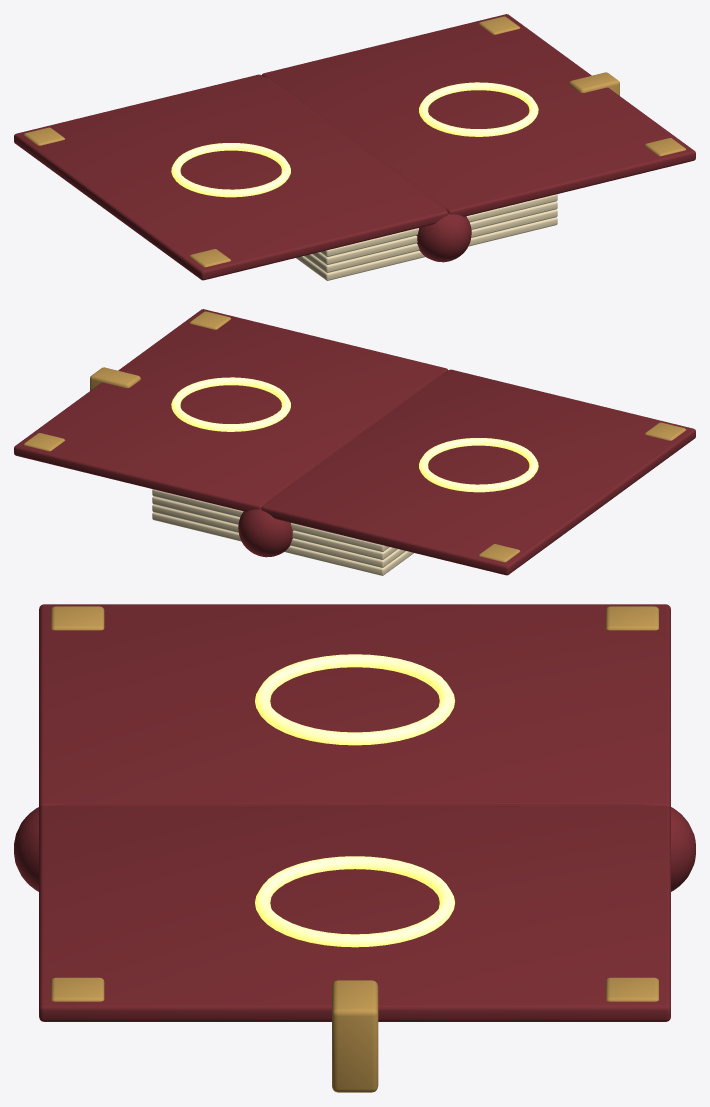
File: runaway_book.glb
The picture shows the model from 3 angles, top to bottom: view 1: azimuth 30°, elevation 25°; view 2: azimuth 150°, elevation 25°; view 3: azimuth 270°, elevation 25°; orthographic projection. The views are drawn at different scales.
Parts seen in each view (by area): view 1: CoverMesh_R, CoverMesh_L, Spine, Rune_L, Rune_R, PageBlock_0, PageBlock_1, PageBlock_2, PageBlock_3, Clasp, Corner_L_0, Corner_R_0 (+2 smaller); view 2: CoverMesh_R, CoverMesh_L, Spine, Rune_L, Rune_R, PageBlock_0, PageBlock_1, PageBlock_2, PageBlock_3, Clasp, Corner_L_1, Corner_R_0 (+2 smaller); view 3: CoverMesh_L, CoverMesh_R, Rune_L, Rune_R, Clasp, Spine, Corner_R_0, Corner_L_0, Corner_R_1, Corner_L_1.
Part boxes in pixels (x1,y1,x2,y2): CoverMesh_R: [14, 74, 448, 280]; CoverMesh_L: [261, 14, 695, 216]; Spine: [264, 77, 471, 262]; Rune_L: [419, 82, 538, 136]; Rune_R: [171, 143, 290, 197]; PageBlock_0: [296, 217, 557, 280]; PageBlock_1: [304, 209, 557, 272]; PageBlock_2: [312, 201, 557, 264]; PageBlock_3: [320, 194, 557, 256]; Clasp: [569, 72, 619, 95]; Corner_L_0: [644, 138, 686, 156]; Corner_R_0: [189, 249, 230, 267]; CoverMesh_R: [261, 369, 695, 575]; CoverMesh_L: [14, 309, 448, 511]; Spine: [238, 372, 445, 557]; Rune_L: [171, 377, 290, 431]; Rune_R: [419, 438, 538, 492]; PageBlock_0: [152, 512, 413, 575]; PageBlock_1: [152, 504, 405, 567]; PageBlock_2: [152, 496, 397, 559]; PageBlock_3: [152, 489, 389, 551]; Clasp: [90, 367, 140, 390]; Corner_L_1: [23, 433, 65, 451]; Corner_R_0: [645, 422, 686, 440]; CoverMesh_L: [39, 806, 670, 1021]; CoverMesh_R: [39, 604, 670, 809]; Rune_L: [255, 856, 454, 947]; Rune_R: [255, 654, 454, 745]; Clasp: [332, 980, 378, 1092]; Spine: [14, 804, 695, 891]; Corner_R_0: [51, 606, 104, 630]; Corner_L_0: [51, 977, 104, 1001]; Corner_R_1: [606, 606, 658, 630]; Corner_L_1: [606, 977, 658, 1001].
Bounding box in the file's own units: 0.635 × 0.07 × 0.4426.
